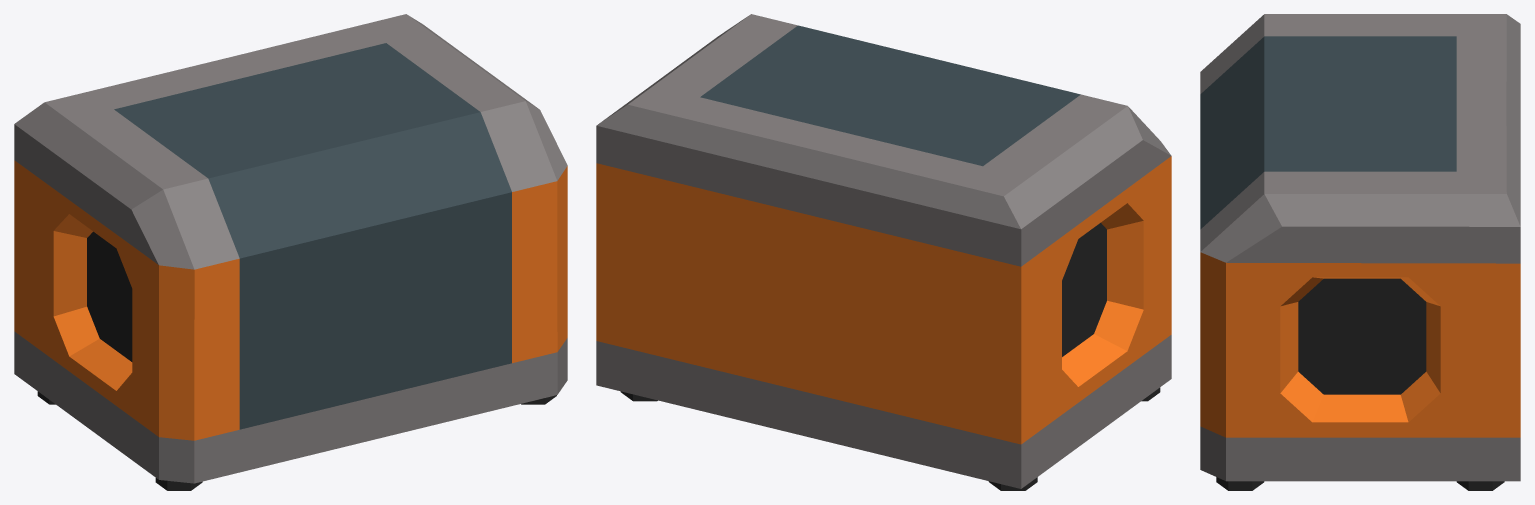
File: scifi_scifi-printer-3d.fbx
3 views of the same model, side by side, from view 1: azimuth 30°, elevation 25°; view 2: azimuth 150°, elevation 25°; view 3: azimuth 270°, elevation 25° (orthographic). The views are drawn at different scales.
Visible parts, largest first — view 1: scifi_scifi_printer_3d; view 2: scifi_scifi_printer_3d; view 3: scifi_scifi_printer_3d.
Boxes of the visible parts, bbox=[...] form: scifi_scifi_printer_3d: bbox=[14, 14, 567, 490]; scifi_scifi_printer_3d: bbox=[596, 14, 1171, 490]; scifi_scifi_printer_3d: bbox=[1200, 14, 1520, 490].
Bounding box in the file's own units: 200 × 133 × 133.
